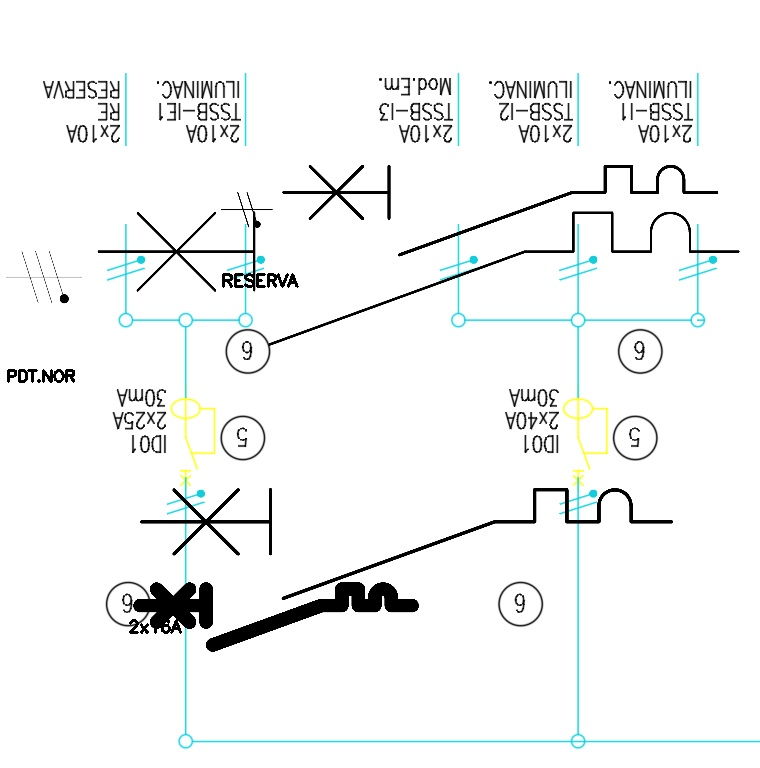interruptor_termomagnetico: (82, 196, 755, 361), (128, 476, 685, 612), (272, 155, 727, 266), (133, 582, 419, 652)
